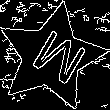M_SW: (18, 24, 84, 90)
